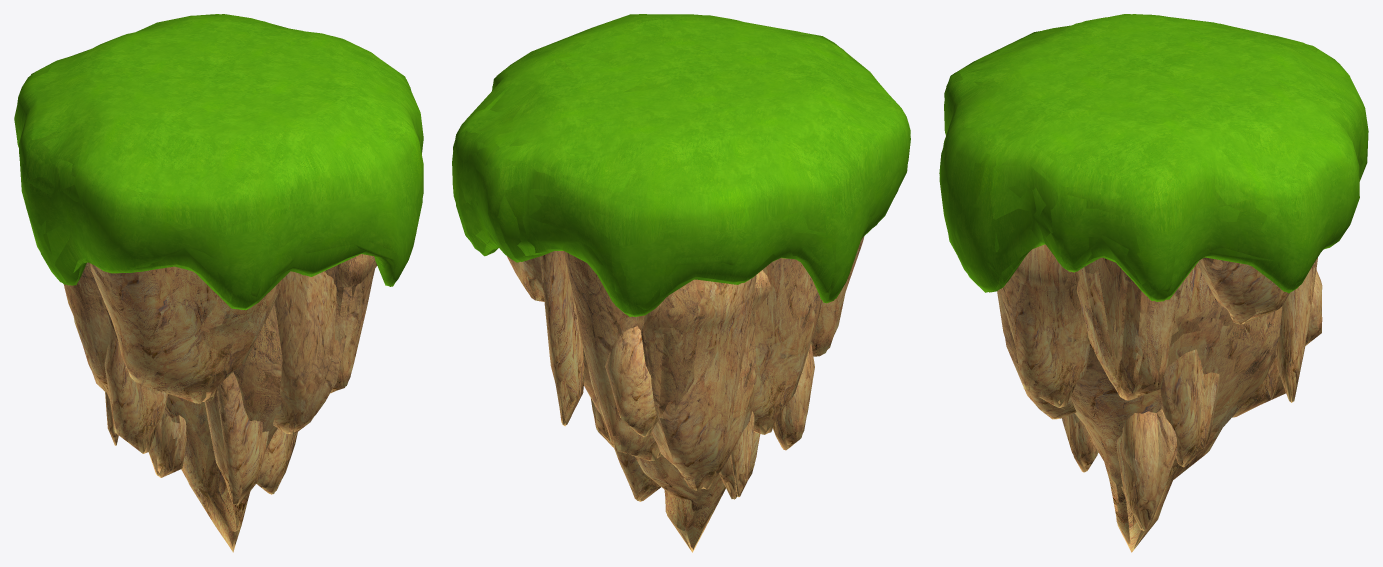
The model's file is Floating_Garden2LOD.fbx.
The picture shows the model from 3 angles, left to right: view 1: azimuth 30°, elevation 25°; view 2: azimuth 150°, elevation 25°; view 3: azimuth 270°, elevation 25°; orthographic projection. The views are drawn at different scales.
Parts seen in each view (by area): view 1: Floating_Land_2.LOD1, Floating_Land_2.LOD2; view 2: Floating_Land_2.LOD1, Floating_Land_2.LOD2; view 3: Floating_Land_2.LOD1, Floating_Land_2.LOD2.
Part boxes in pixels (x1=…): Floating_Land_2.LOD1: x1=16, y1=14, x2=422, y2=546; Floating_Land_2.LOD2: x1=14, y1=14, x2=423, y2=552; Floating_Land_2.LOD1: x1=452, y1=14, x2=910, y2=549; Floating_Land_2.LOD2: x1=453, y1=14, x2=910, y2=552; Floating_Land_2.LOD1: x1=939, y1=14, x2=1367, y2=548; Floating_Land_2.LOD2: x1=939, y1=14, x2=1368, y2=552.
Bounding box in the file's own units: 37.68 × 47.63 × 38.05.
